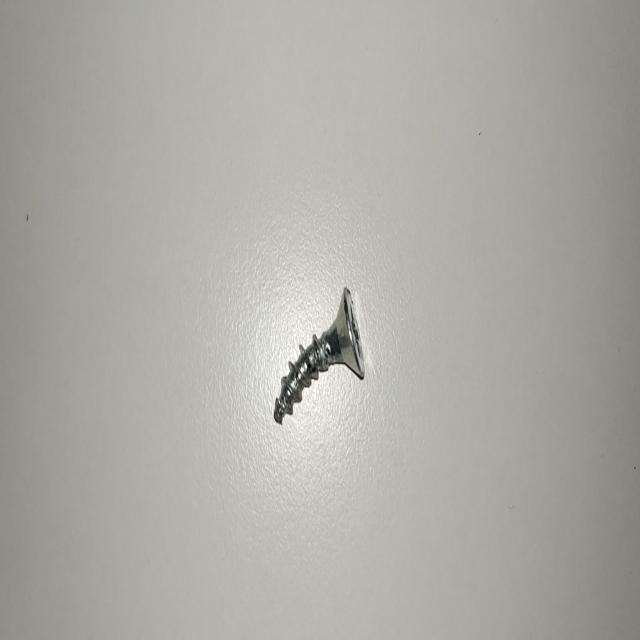Screw: (274, 287, 365, 423)
